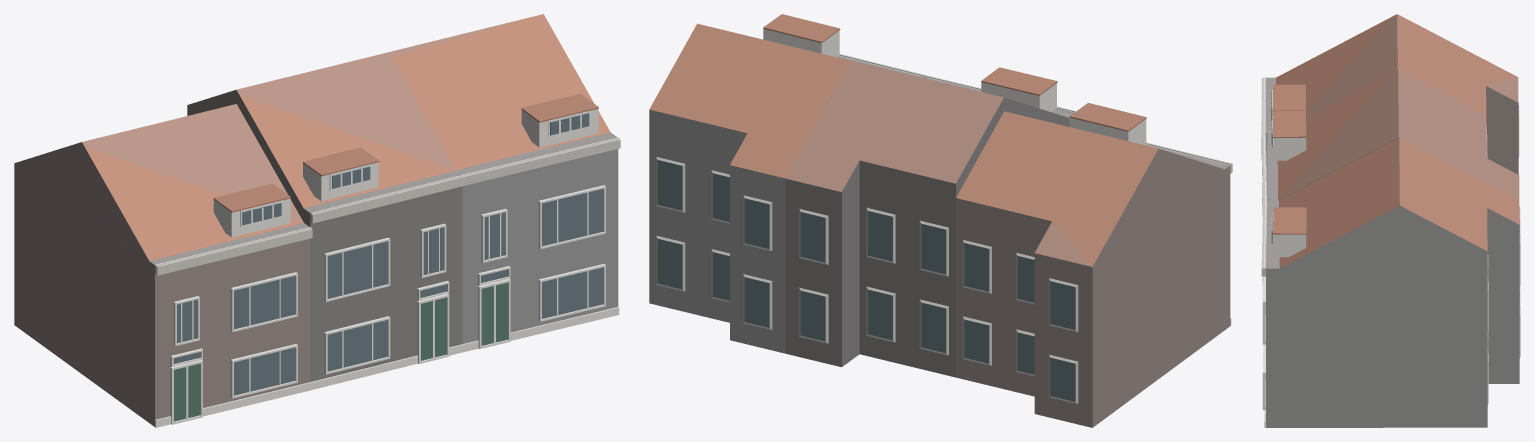
Rendered from chunk-face-pelikaan-16-22-r1.glb.
The picture shows the model from 3 angles, left to right: view 1: azimuth 30°, elevation 25°; view 2: azimuth 150°, elevation 25°; view 3: azimuth 270°, elevation 25°; orthographic projection. The views are drawn at different scales.
Parts seen in each view (by area): view 1: face-pelikaan-16-22-r1; view 2: face-pelikaan-16-22-r1; view 3: face-pelikaan-16-22-r1.
Part boxes in pixels (bbox=[...]): face-pelikaan-16-22-r1: bbox=[14, 14, 620, 427]; face-pelikaan-16-22-r1: bbox=[649, 14, 1232, 427]; face-pelikaan-16-22-r1: bbox=[1261, 14, 1520, 427].
Size of the model in its own units: 19.37 by 9.82 by 10.37.
